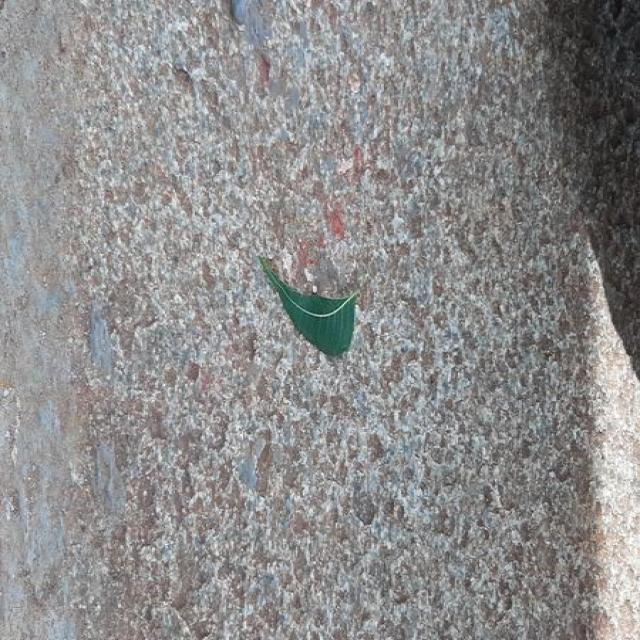neem: (261, 258, 357, 356)
